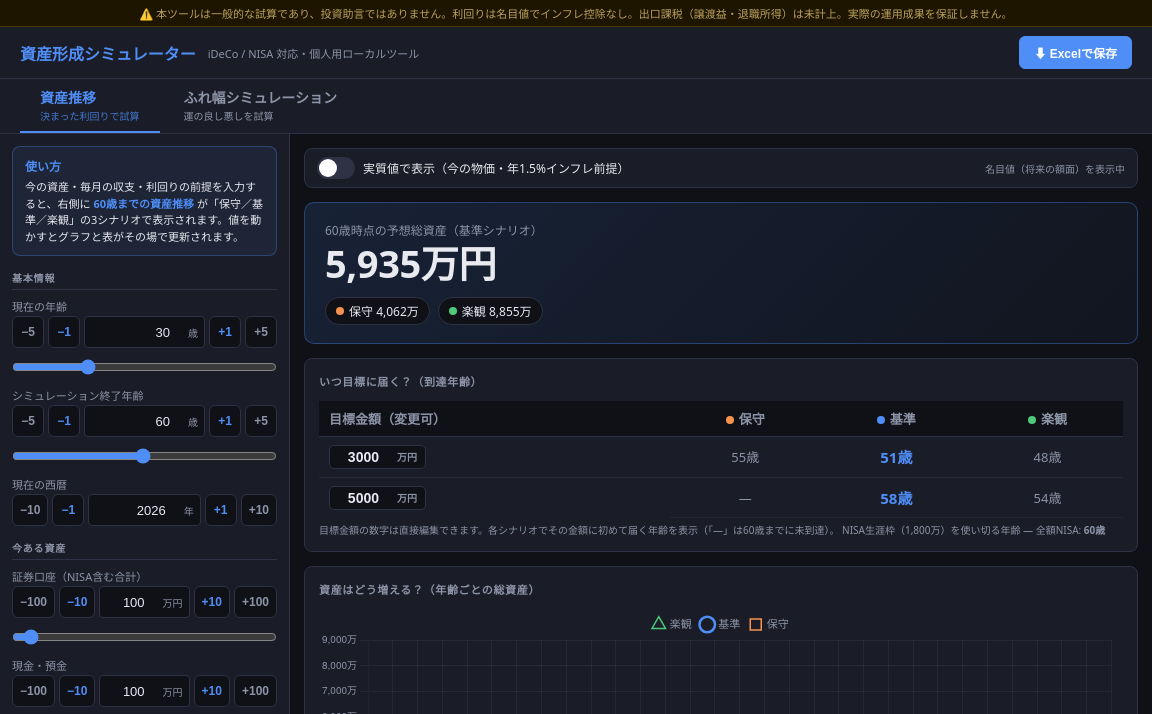
Test: App 結合テスト › 実質表示トグルでヒーローに「実質・今の物価」バッジが出る
This screenshot has width=1152, height=714.
Expected: the text "実質・今の物価" is not shown
What coordinates should you click on to do the following:
click the checkbox named "実質値（今の物価に換算）で表示"
I would click on:
 (473, 168)
Its box is x1=317 y1=157 x2=630 y2=179.
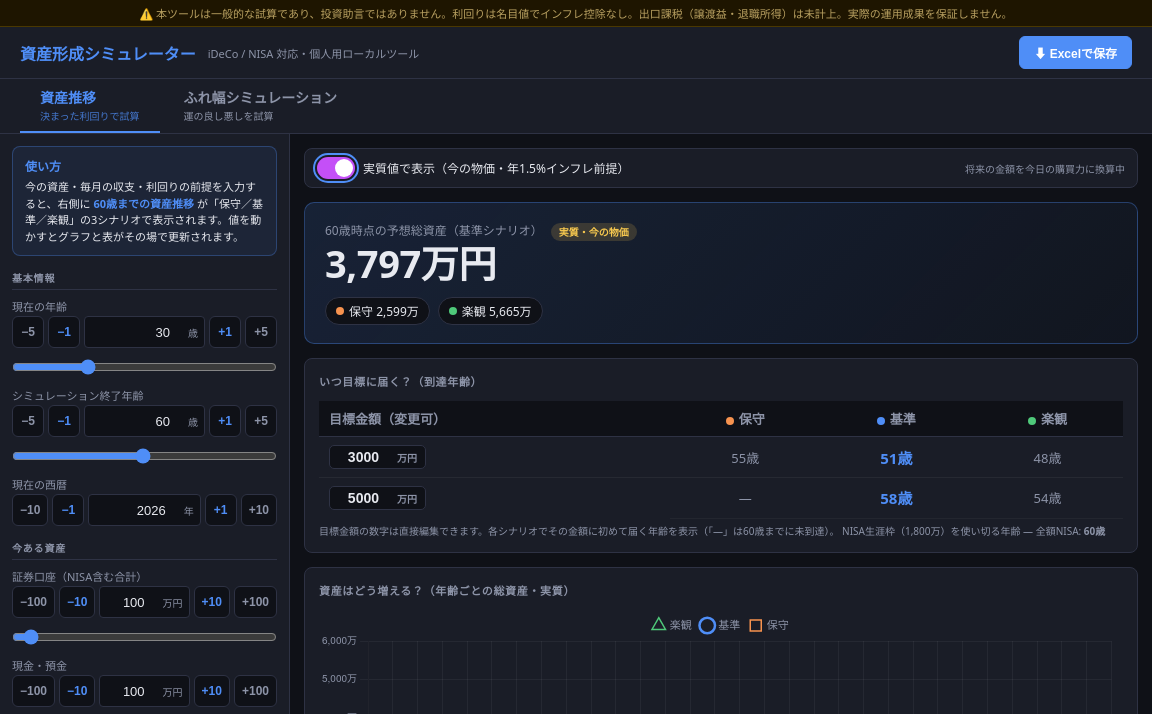
Expected: the text "実質・今の物価" is shown, x1=551 y1=223 x2=637 y2=241
